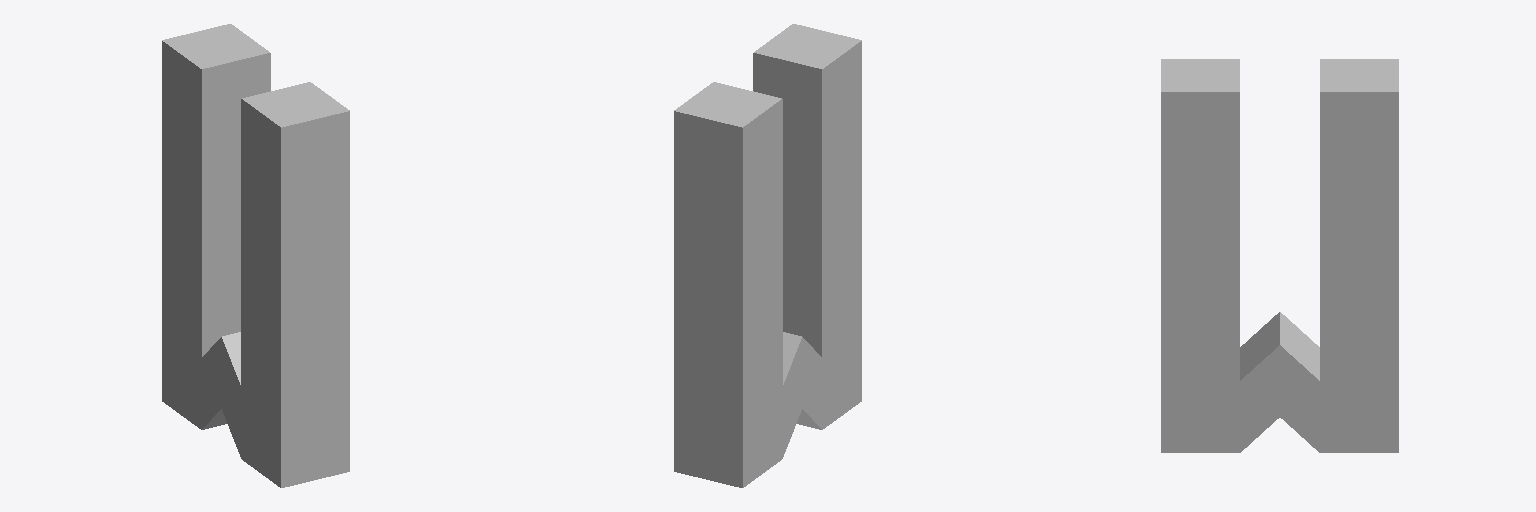
The model's file is character_w.obj.
The picture shows the model from 3 angles: view 1: azimuth 30°, elevation 25°; view 2: azimuth 150°, elevation 25°; view 3: azimuth 270°, elevation 25°; orthographic projection.
Parts seen in each view (by area): view 1: Cube.001; view 2: Cube.001; view 3: Cube.001.
Part boxes in pixels (x1,y1,x2,y2): Cube.001: (162, 24, 349, 487); Cube.001: (674, 24, 861, 487); Cube.001: (1161, 59, 1398, 452).
Size of the model in its own units: 6 by 30 by 18.